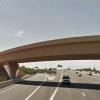Bridge: (3, 37, 95, 71)
